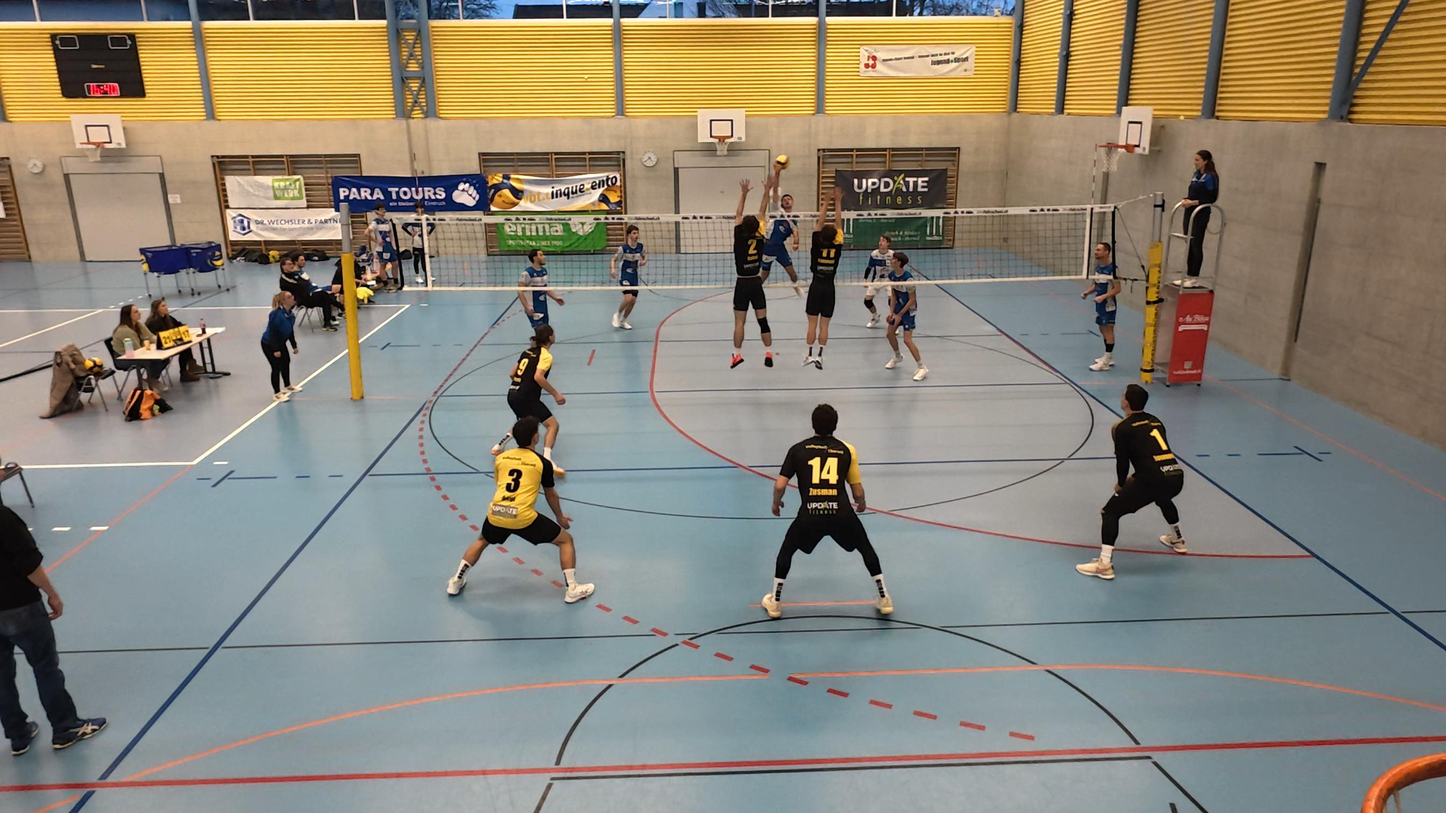attacco: (750, 162, 810, 299)
muro: (722, 176, 778, 369), (804, 191, 852, 370)
